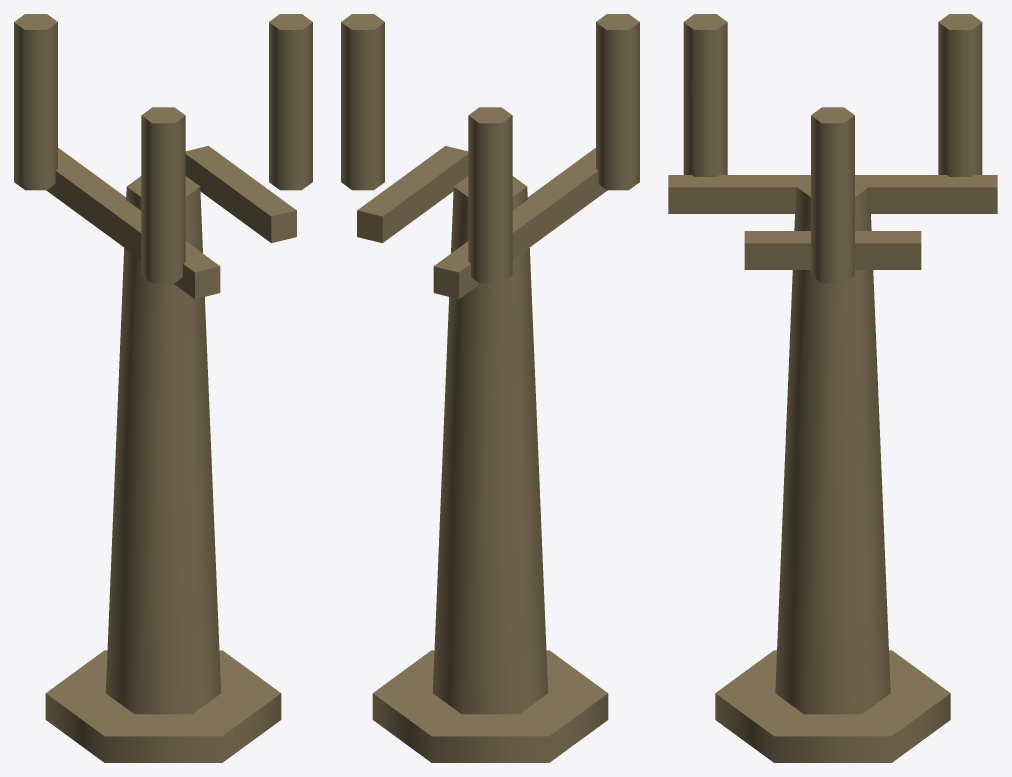
File: candelabra.glb
3 renders of one model, left to right at view 1: azimuth 30°, elevation 25°; view 2: azimuth 150°, elevation 25°; view 3: azimuth 270°, elevation 25°, orthographic.
Size of the model in its own units: 0.1823 by 0.5 by 0.2239.
